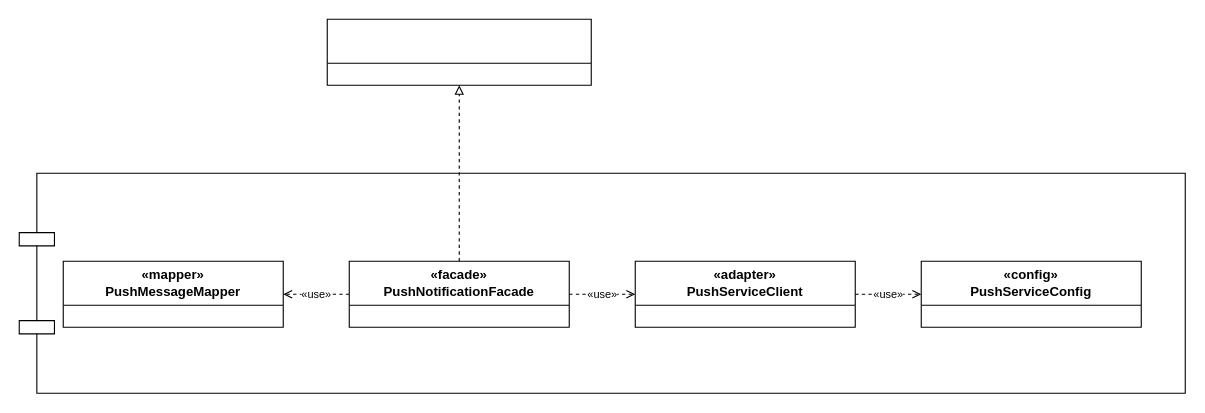
Image size: 1205x413. Some labels were removed from this diagram. Here are the shapes that lost their labels. From the top down, the box of each, then its label:
(326, 18, 591, 85): «interface» IF-03 IPushNotificationGateway
(18, 172, 1185, 393): «subsystem» SS-03 PushNotification
